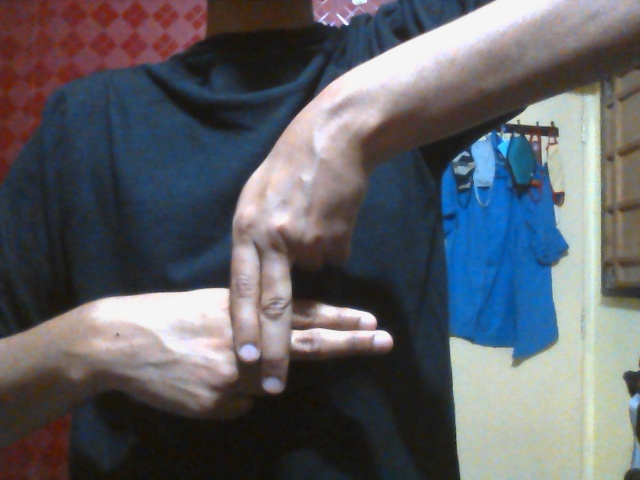F: (89, 120, 398, 421)
